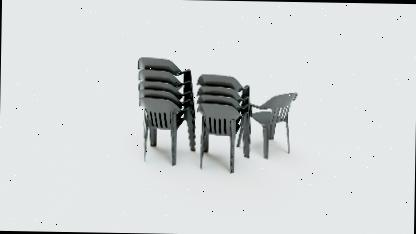chair: (134, 52, 198, 170), (195, 68, 254, 183), (235, 85, 301, 162)
